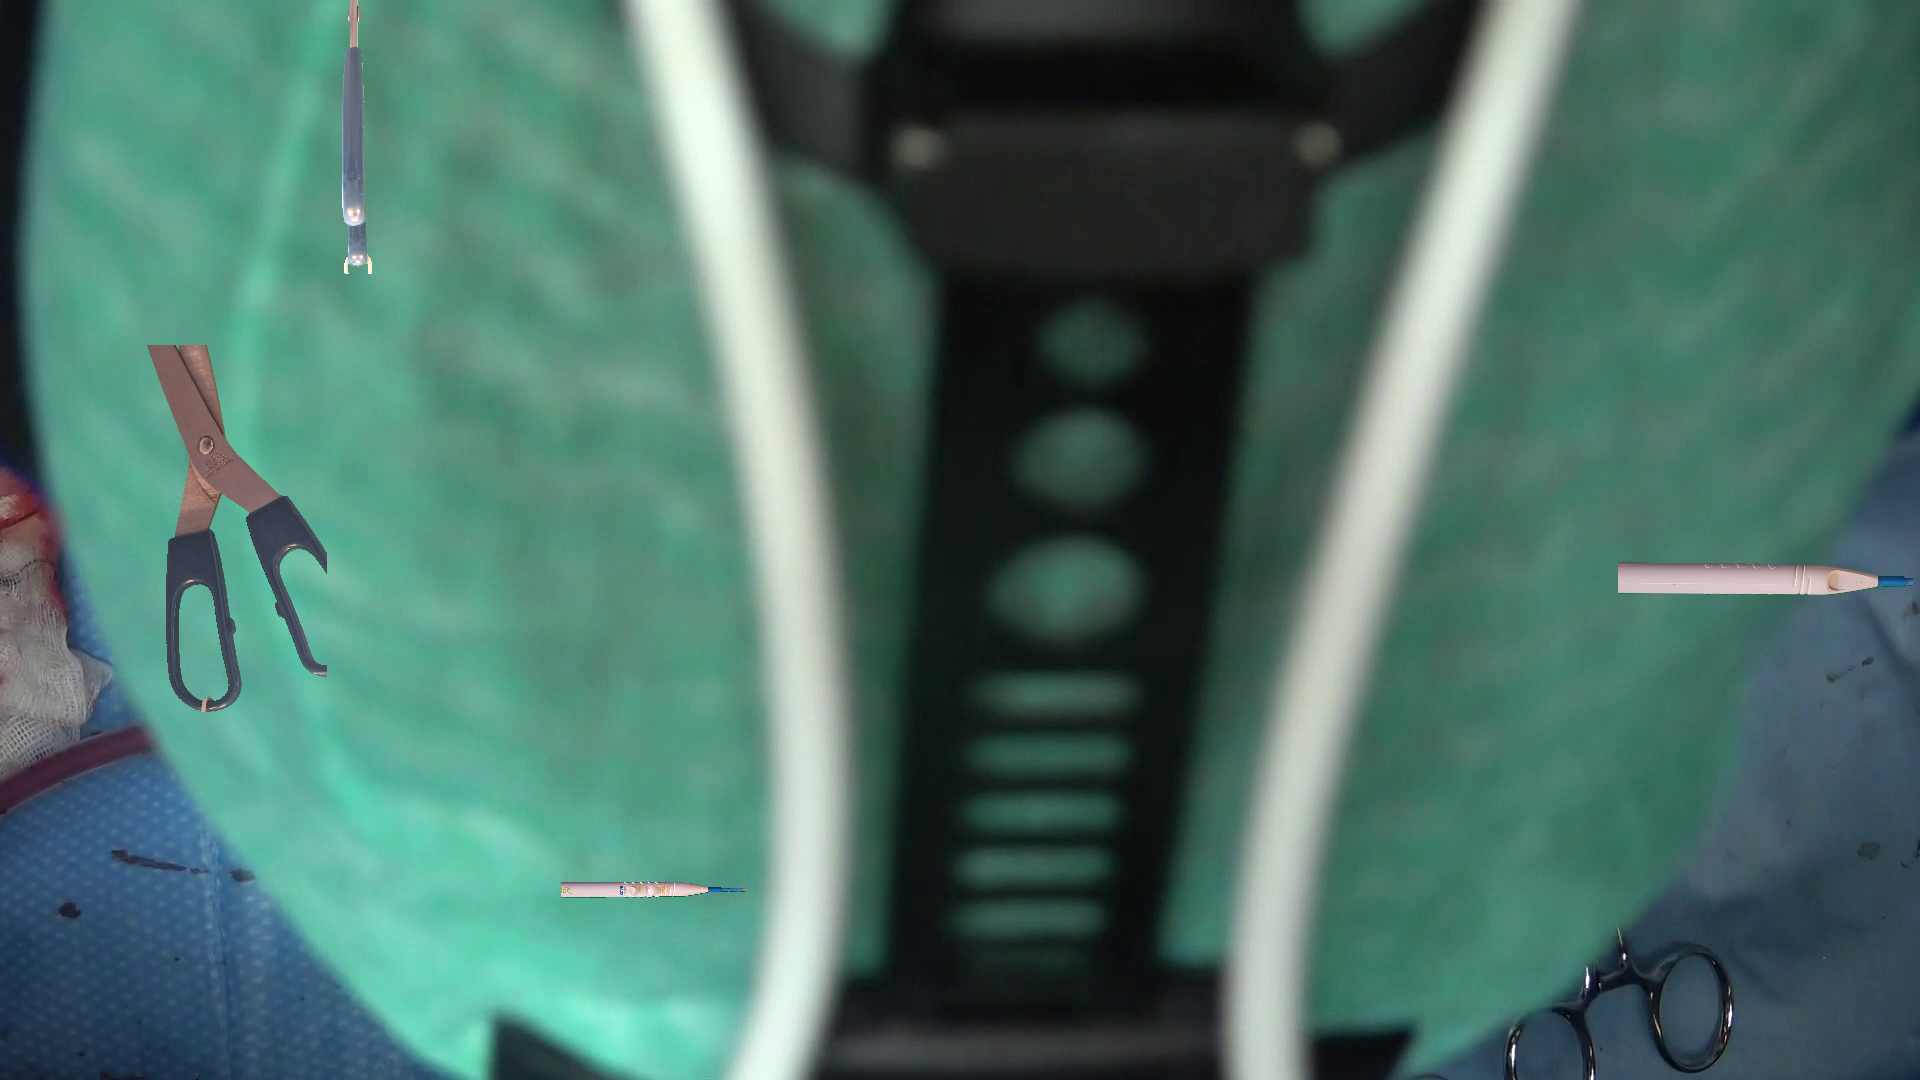diathermy: (1618, 562, 1912, 593), (560, 882, 744, 897)
scissors: (146, 345, 326, 711), (342, 0, 371, 273)
